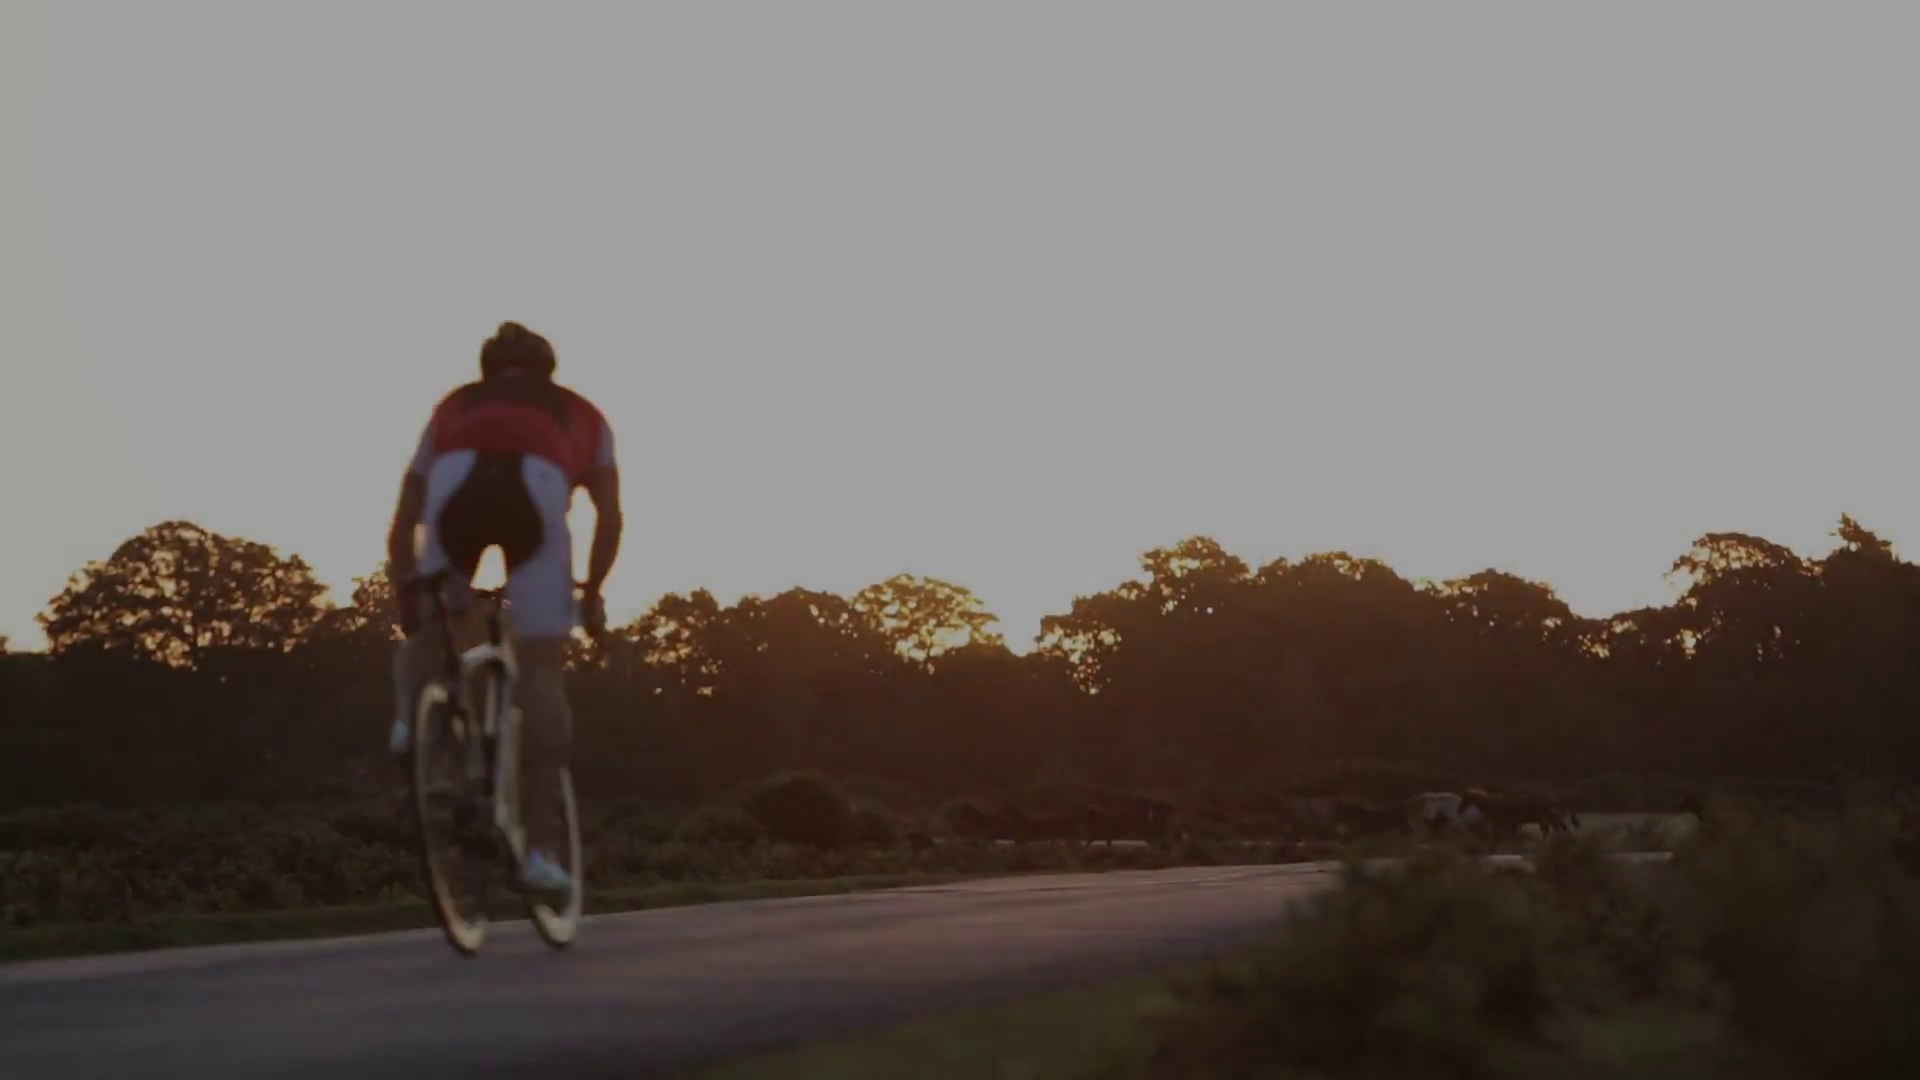person: (389, 322, 623, 896)
